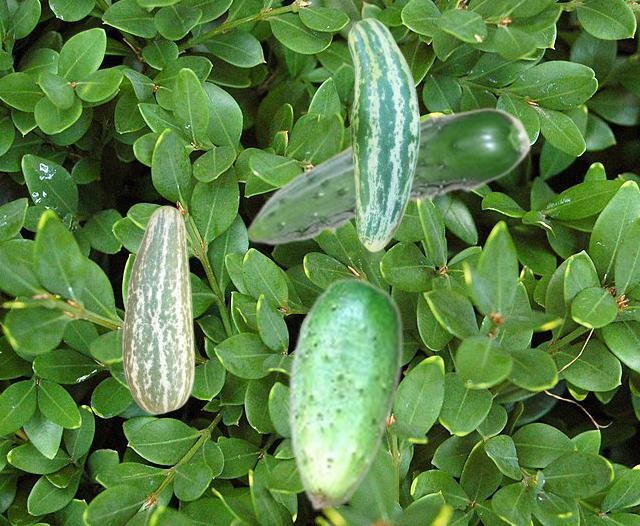cucumber: (245, 107, 531, 244), (287, 276, 402, 510), (347, 17, 419, 251), (122, 205, 194, 413)
